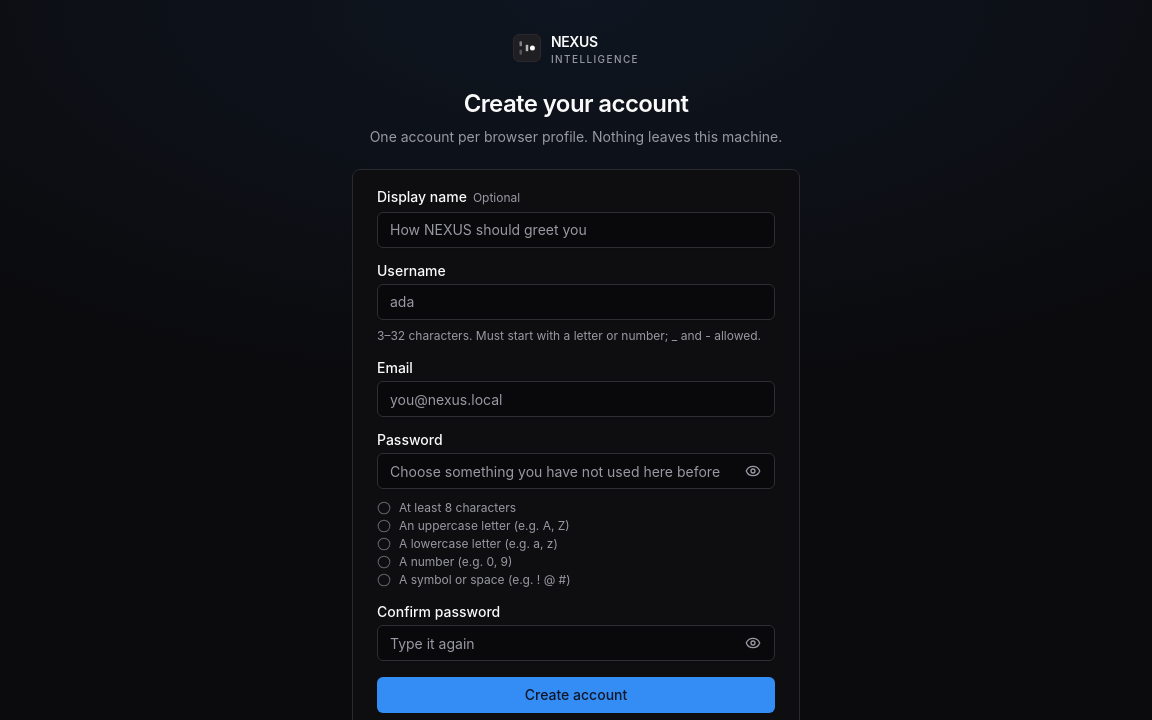
Test: RegisterPage › sends the username problem to the username field and explains the shape
Type "_ada" into the field labelled "Username". click: [576, 302]
box: [377, 284, 775, 320]
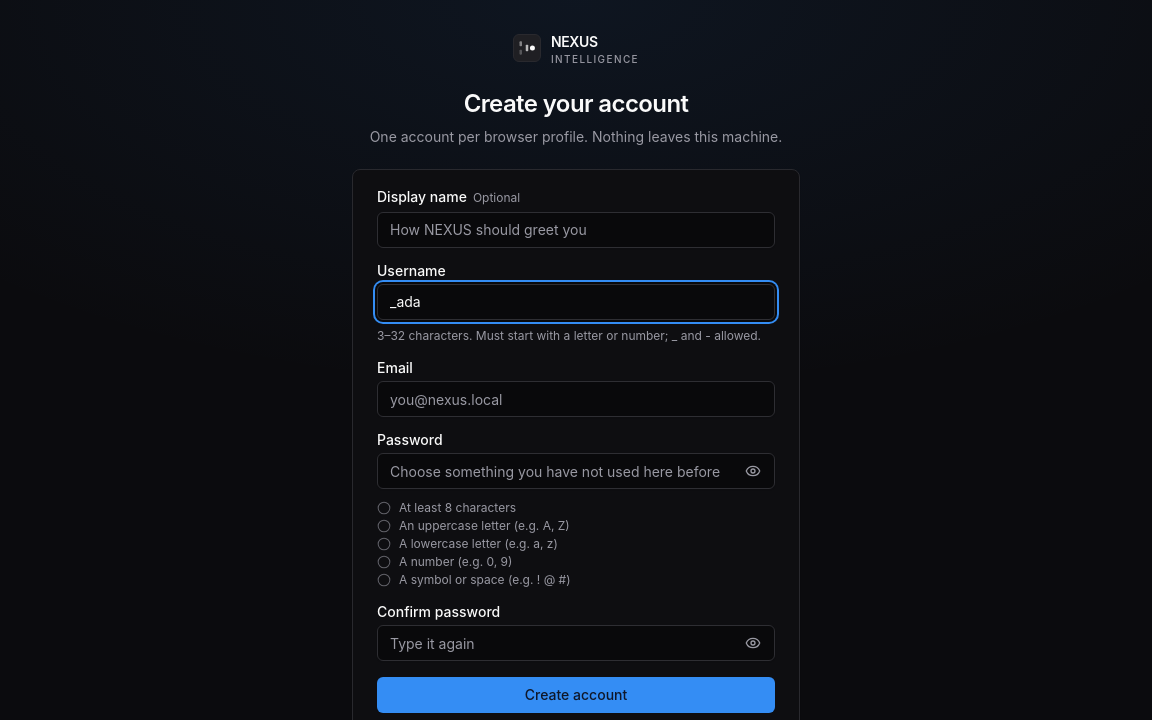
Click the button "Create account". click: [576, 695]
box: [377, 677, 775, 713]
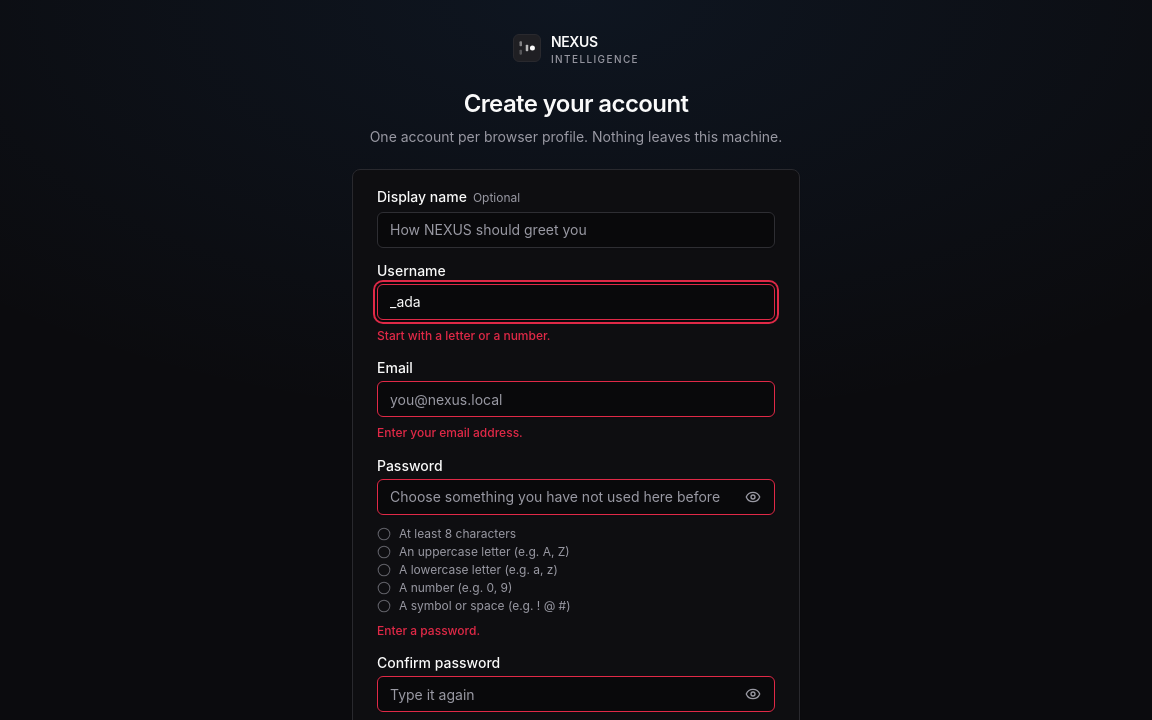
Result: the text "Start with a letter or a number." is shown at [377, 328, 550, 343]
